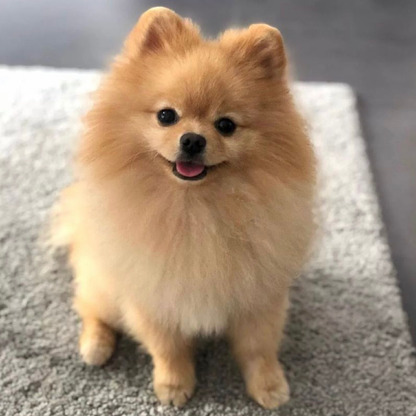Pomeranian: (48, 9, 316, 397)
